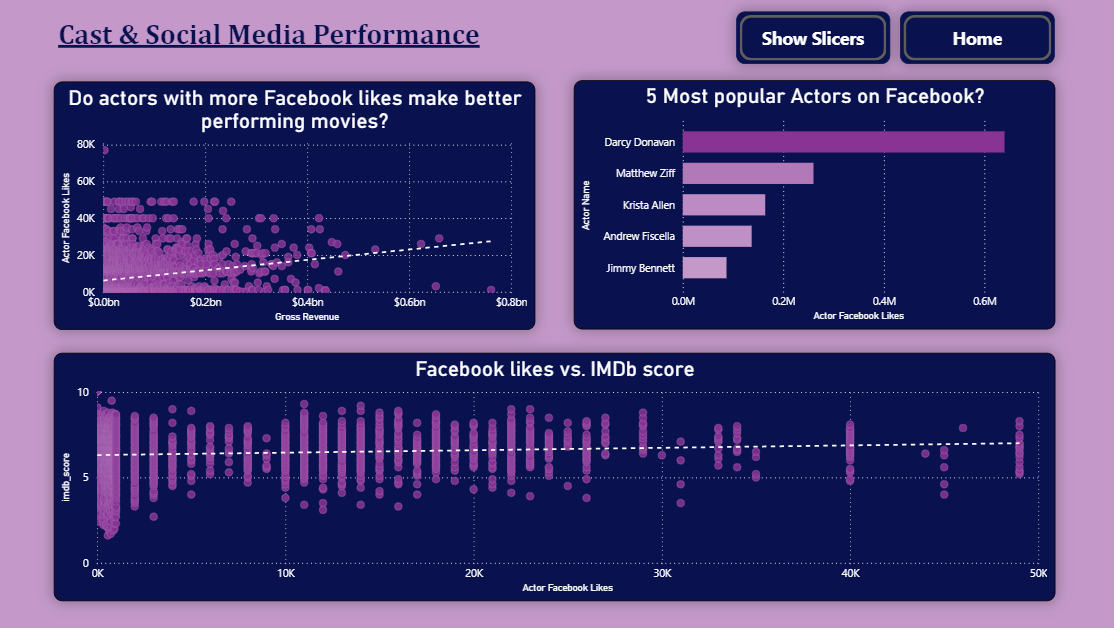

Layout of this report page (visuals, bound fields, positions):
{"tool":"powerbi","page":{"name":"Cast & Social Media Performance","canvas":[1280,720],"ordinal":2},"visuals":[{"type":"textbox","box":[67.1,15.7,511.4,61.4],"z":0},{"type":"scatterChart","title":"Do actors with more Facebook likes make better performing movies?","fields":{"X":["movie_data.gross"],"Y":["movie_data.actor_1_facebook_likes"]},"box":[67.1,94.3,550,284.3],"z":1000},{"type":"barChart","title":"5 Most popular Actors on Facebook?","fields":{"Category":["movie_data.actor_1_name"],"Y":["movie_data.actor_1_facebook_likes"]},"box":[661.2,92.5,550,285],"z":2000},{"type":"scatterChart","title":"Facebook likes vs. IMDb score","fields":{"X":["movie_data.actor_1_facebook_likes"],"Y":["movie_data.imdb_score"]},"box":[67.2,404.8,1144.4,284],"z":3000},{"type":"actionButton","title":"Home Button","box":[1034.3,14.3,177.1,60],"z":4000},{"type":"actionButton","title":"Show Slicer Button","box":[847.1,14.3,175.7,60],"z":5000}]}

Visuals, with their boxes in screenshot pixels (x1, y1, x2, y2), scaled from the page's 1280x720 canvas onto the 1114x628 screenshot:
textbox: crop(58, 14, 503, 67)
"Do actors with more Facebook likes make better performing movies?" scatterChart: crop(58, 82, 537, 330)
"5 Most popular Actors on Facebook?" barChart: crop(575, 81, 1054, 329)
"Facebook likes vs. IMDb score" scatterChart: crop(58, 353, 1054, 601)
"Home Button" actionButton: crop(900, 12, 1054, 65)
"Show Slicer Button" actionButton: crop(737, 12, 890, 65)
